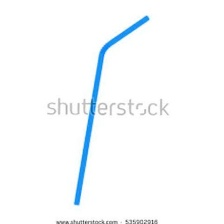drinking_straw: (66, 10, 155, 210)
